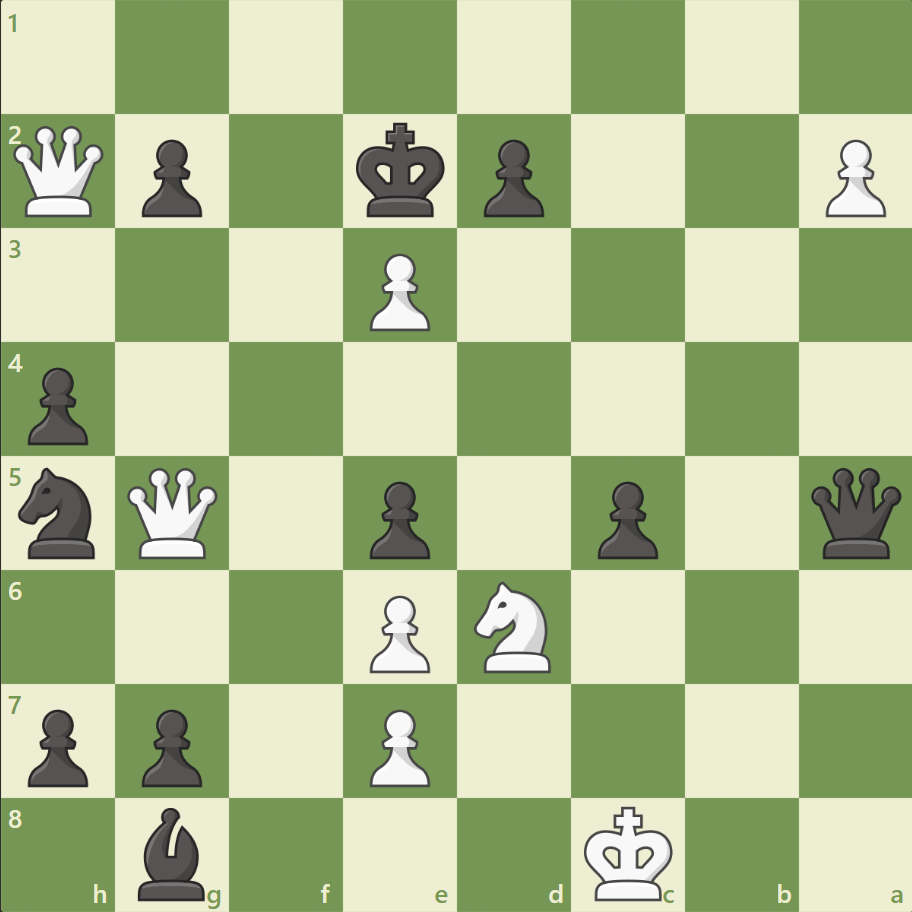K: (579, 798, 679, 906)
N: (465, 575, 562, 677)
P: (361, 700, 435, 791), (361, 586, 435, 677), (361, 246, 435, 337), (815, 132, 889, 223)
Q: (10, 122, 109, 222), (124, 463, 223, 562)
b: (131, 801, 215, 904)
k: (351, 117, 451, 225)
n: (11, 461, 108, 564)
p: (133, 700, 208, 791), (20, 700, 95, 791), (20, 359, 95, 450), (474, 132, 549, 223), (133, 132, 208, 223), (588, 473, 662, 564), (361, 473, 435, 564)
q: (805, 463, 904, 562)
